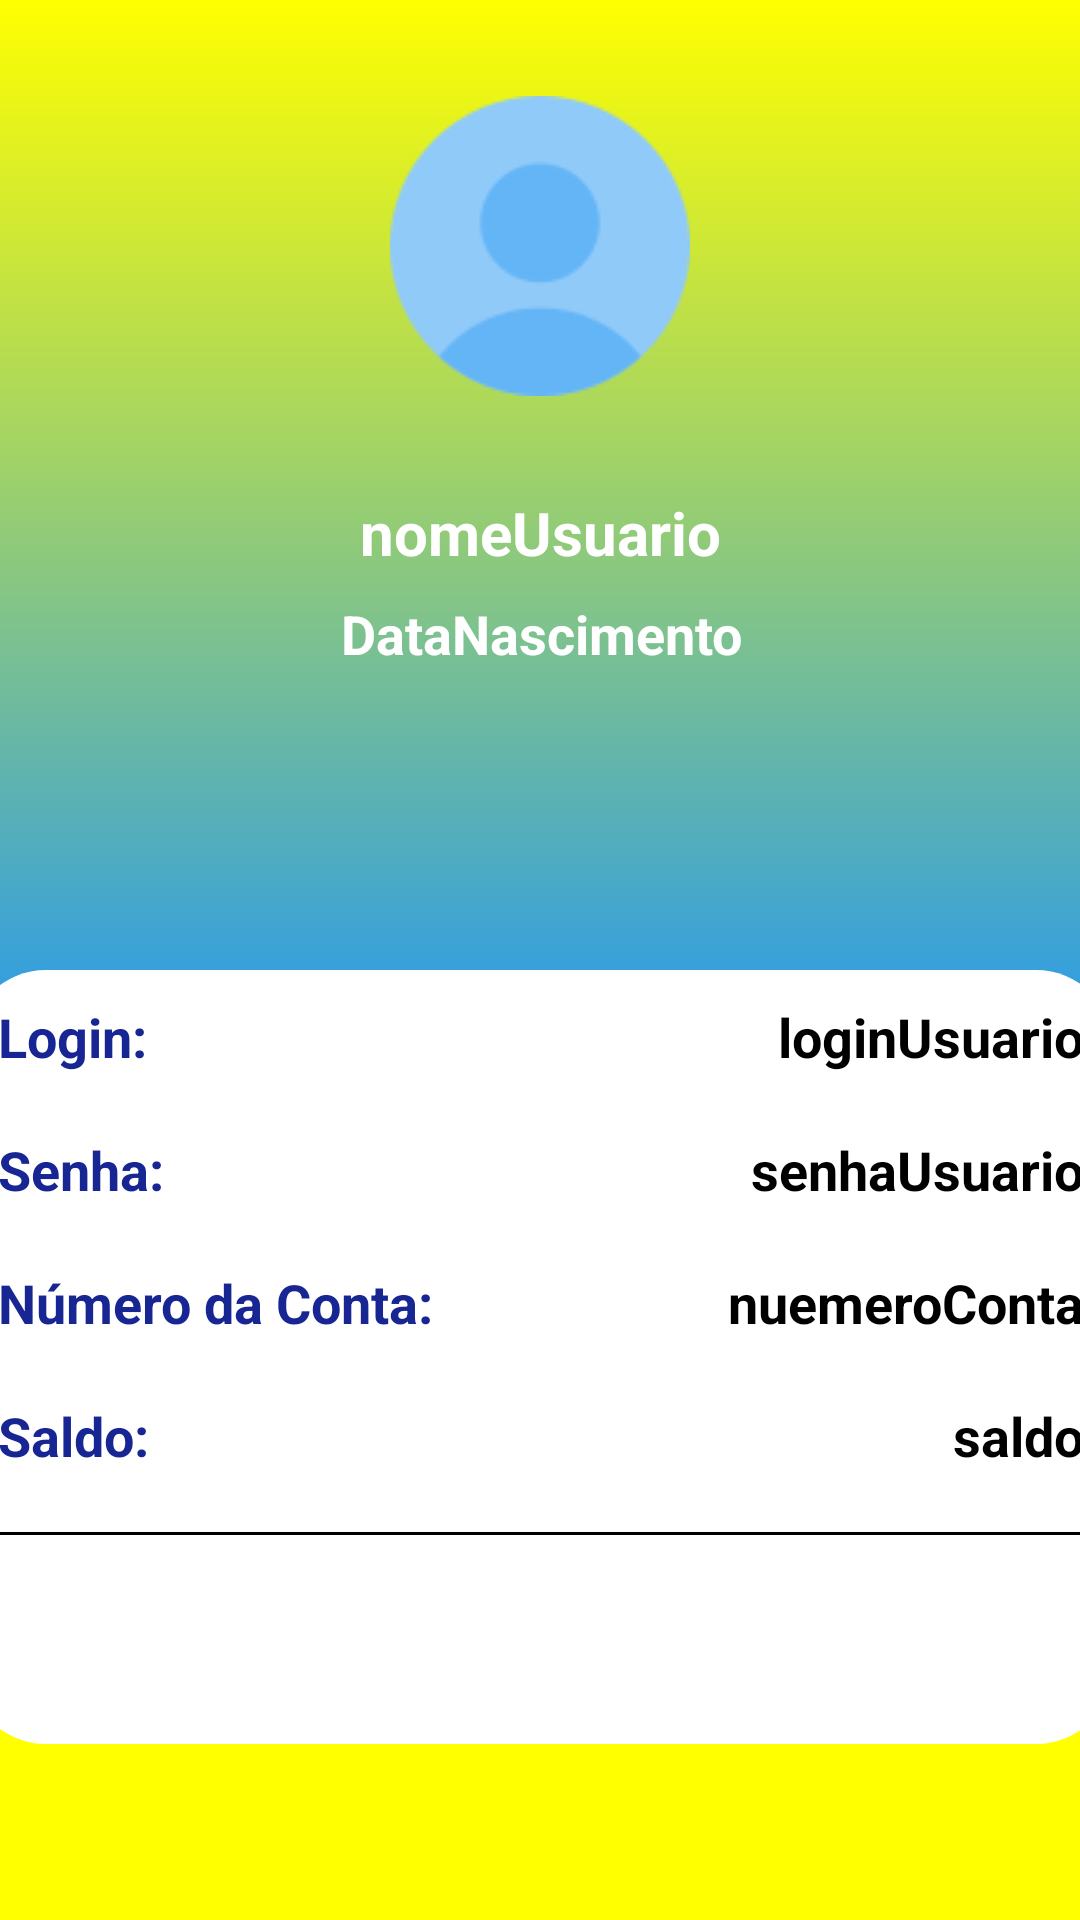

Icon click points for this 1080x1920 phone screenshot, format point (x, y):
perfil: point (540, 246)
